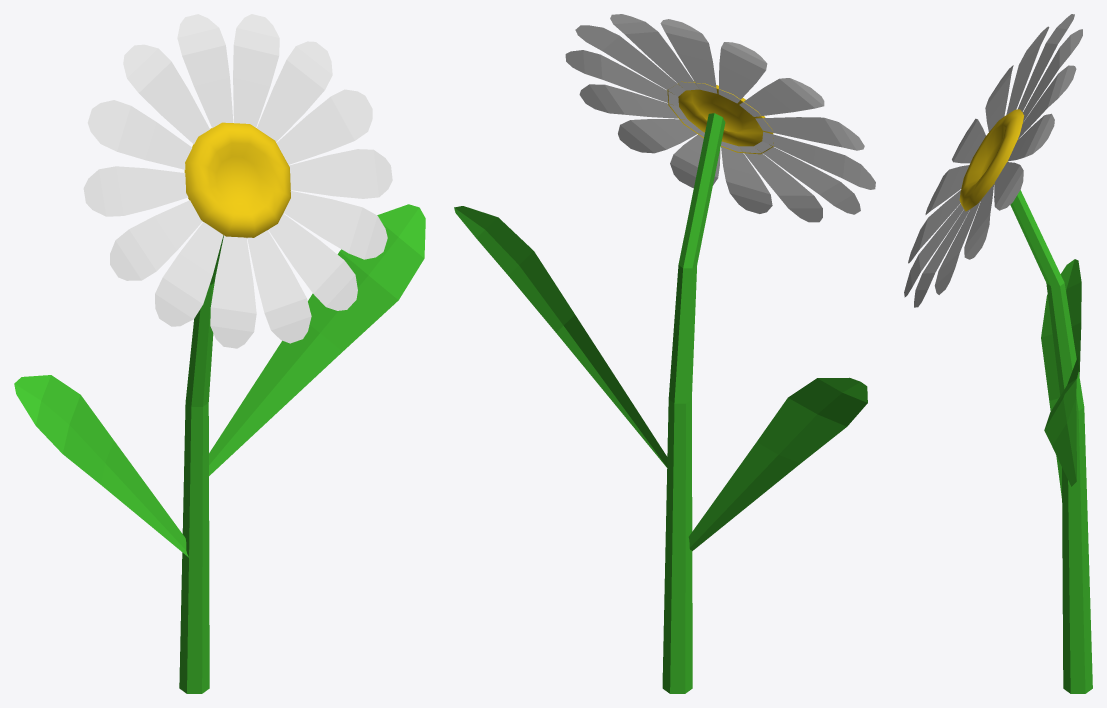
File: flower_1.fbx
3 renders of one model, left to right at view 1: azimuth 30°, elevation 25°; view 2: azimuth 150°, elevation 25°; view 3: azimuth 270°, elevation 25°, orthographic. The views are drawn at different scales.
Parts seen in each view (by area): view 1: flower_2; view 2: flower_2; view 3: flower_2.
Part boxes in pixels (x1,y1,x2,y2): flower_2: (14,14,425,693); flower_2: (454,14,875,693); flower_2: (904,14,1092,693).
Size of the model in its own units: 0.4976 by 0.7761 by 0.2024.
